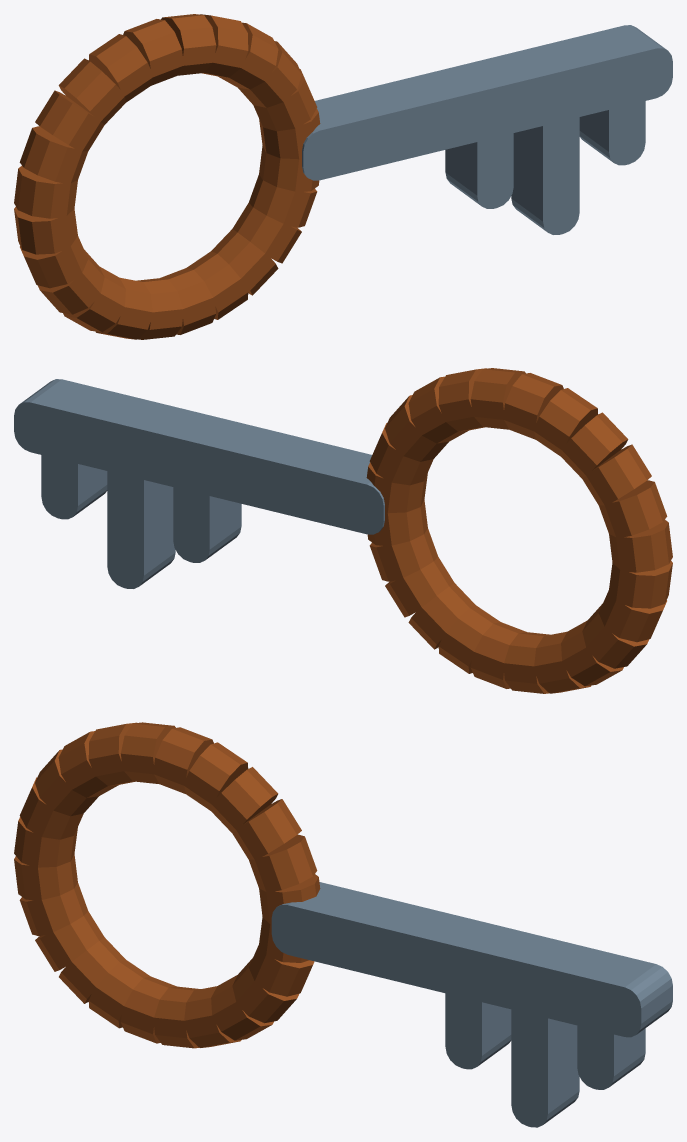
File: key.glb
3 views of the same model, one above another, from view 1: azimuth 30°, elevation 25°; view 2: azimuth 150°, elevation 25°; view 3: azimuth 330°, elevation 25° (orthographic).
Visible parts, largest first — view 1: shaft, tooth 1, tooth 0, tooth 2, key ring10, key ring7, key ring8, key ring9, key ring11, key ring6, key ring12, key ring5 (+16 smaller); view 2: shaft, tooth 1, tooth 0, tooth 2, key ring10, key ring7, key ring8, key ring9, key ring11, key ring6, key ring12, key ring5 (+16 smaller); view 3: shaft, tooth 1, tooth 0, tooth 2, key ring1, key ring4, key ring3, key ring2, key ring5, key ring6, key ring14, key ring15 (+16 smaller).
Part boxes in pixels (x1,y1,x2,y2): shaft: (302,25,672,180); tooth 1: (511,103,579,234); tooth 0: (445,119,513,208); tooth 2: (579,87,645,165); key ring10: (19,126,88,184); key ring7: (88,34,153,102); key ring8: (58,58,125,124); key ring9: (35,90,104,151); key ring11: (14,166,77,218); key ring6: (123,19,183,85); key ring12: (14,207,77,254); key ring5: (161,14,216,75); shaft: (14,379,384,534); tooth 1: (107,457,175,588); tooth 0: (173,473,241,562); tooth 2: (41,442,107,519); key ring10: (598,480,667,538); key ring7: (533,388,598,456); key ring8: (561,412,628,478); key ring9: (582,444,651,505); key ring11: (609,520,672,572); key ring6: (503,373,563,439); key ring12: (609,561,672,608); key ring5: (470,368,525,429); shaft: (271,882,672,1037); tooth 1: (511,996,579,1127); tooth 0: (445,981,511,1069); tooth 2: (577,1012,645,1089); key ring1: (249,834,317,891); key ring4: (183,742,248,810); key ring3: (211,767,278,833); key ring2: (232,799,301,859); key ring5: (154,727,213,793); key ring6: (120,722,175,784); key ring14: (35,911,104,971); key ring15: (59,937,125,1003).
Bounding box in the file's own units: 1.75 × 0.8228 × 0.15.
